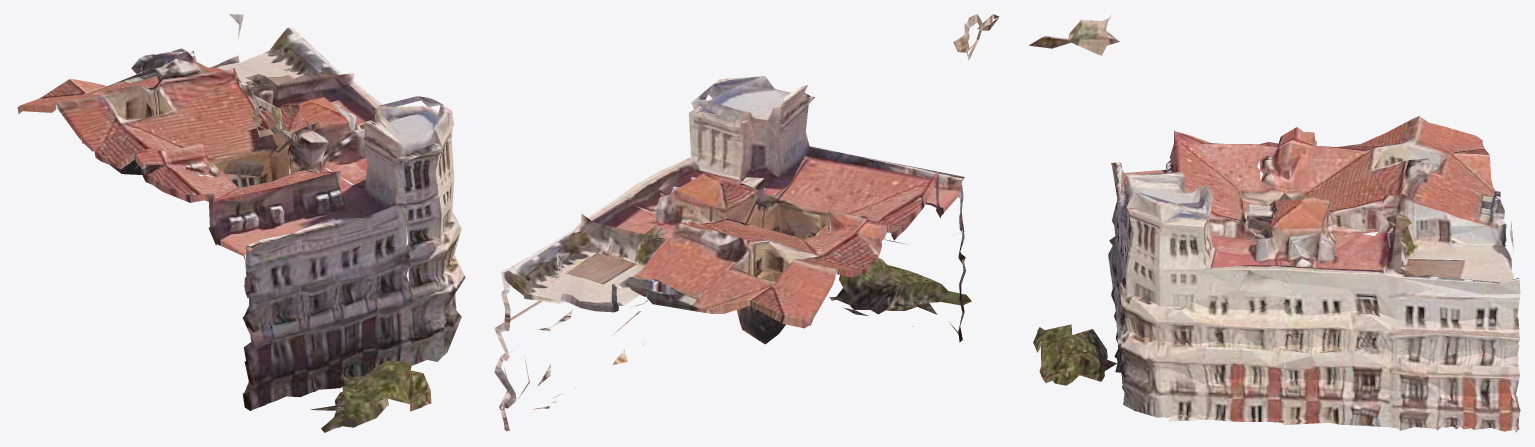
3 renders of one model, left to right at view 1: azimuth 30°, elevation 25°; view 2: azimuth 150°, elevation 25°; view 3: azimuth 270°, elevation 25°, orthographic. The views are drawn at different scales.
Parts seen in each view (by area): view 1: Mesh_0; view 2: Mesh_0; view 3: Mesh_0.
Part boxes in pixels (box(x1,y1,x2,y2)): Mesh_0: box(17, 14, 465, 432); Mesh_0: box(494, 14, 999, 432); Mesh_0: box(1029, 15, 1520, 432).
Bounding box in the file's own units: 27.44 × 27.93 × 40.98.
Materials: 2 (2 with a texture image).
